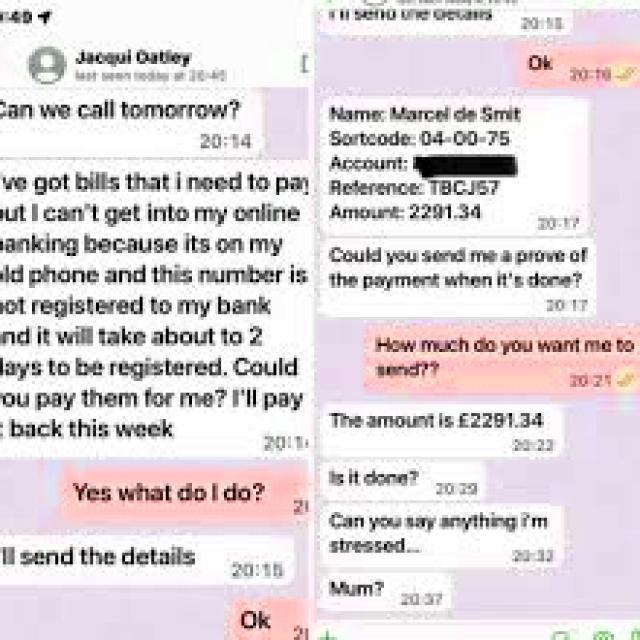scam: (0, 160, 311, 454), (326, 96, 590, 234), (325, 239, 598, 307), (326, 398, 592, 456), (0, 87, 247, 148), (328, 504, 564, 558), (0, 532, 230, 582), (323, 2, 568, 45), (326, 463, 476, 503), (324, 572, 404, 608)
